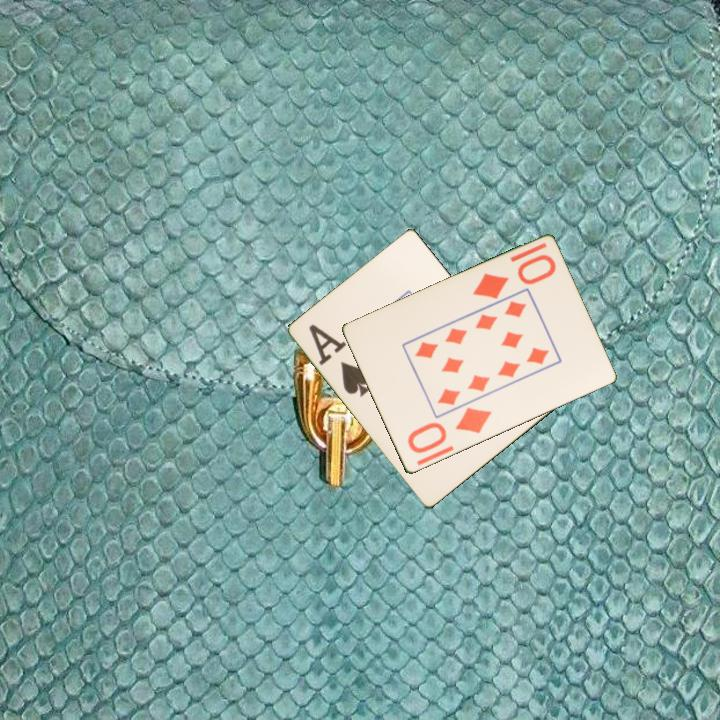10d: (404, 404, 495, 457), (469, 251, 559, 302)
As: (306, 320, 374, 400)
